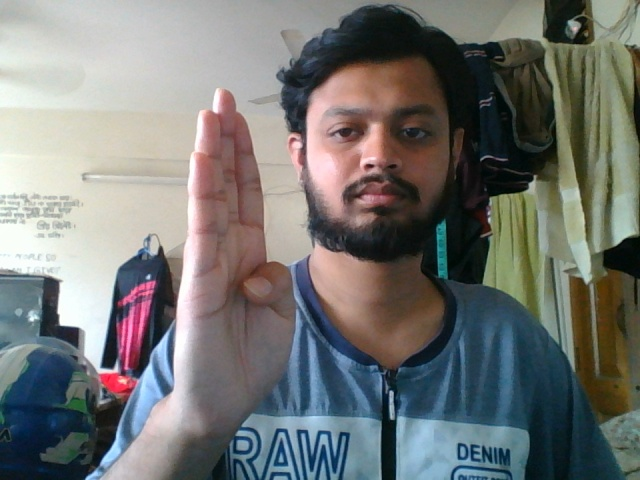ba: (166, 83, 307, 453)
